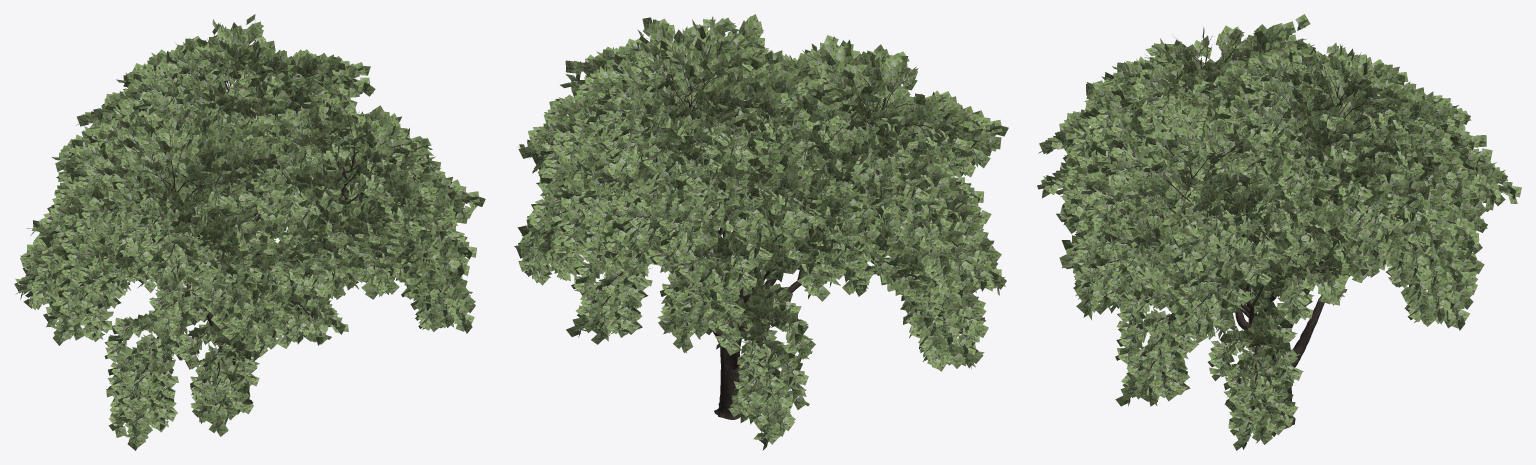
Rendered from FBX_WE17_QuercusAgrifolia_5_1.fbx.
3 views of the same model, side by side, from view 1: azimuth 30°, elevation 25°; view 2: azimuth 150°, elevation 25°; view 3: azimuth 270°, elevation 25° (orthographic). The views are drawn at different scales.
Parts seen in each view (by area): view 1: Leaf01_5, Bark01_5; view 2: Leaf01_5, Bark01_5; view 3: Leaf01_5, Bark01_5.
Part boxes in pixels (x1,y1,x2,y2): Leaf01_5: (14, 14, 485, 450); Bark01_5: (23, 36, 457, 420); Leaf01_5: (514, 14, 1008, 450); Bark01_5: (535, 31, 984, 421); Leaf01_5: (1037, 14, 1521, 450); Bark01_5: (1050, 36, 1498, 435).
Bounding box in the file's own units: 1135 × 883 × 1035.
